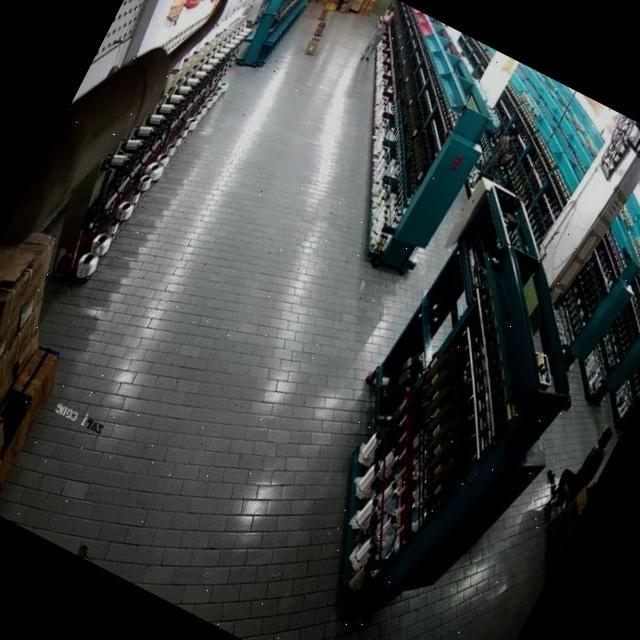person: (550, 419, 619, 522), (355, 1, 398, 68)
